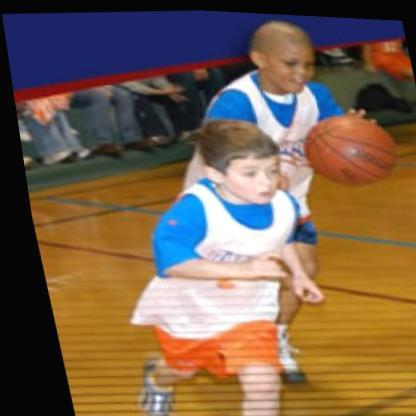basketball: (292, 106, 406, 189)
